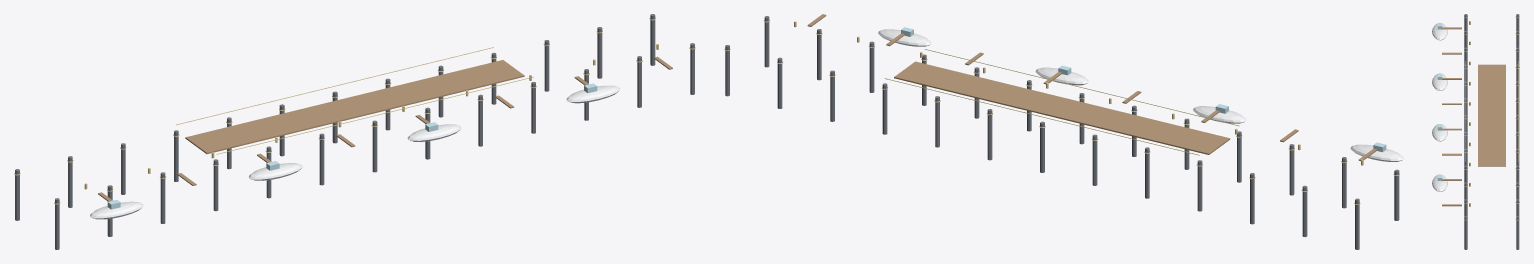
File: reef-harbor.glb
3 views of the same model, side by side, from view 1: azimuth 30°, elevation 25°; view 2: azimuth 150°, elevation 25°; view 3: azimuth 270°, elevation 25° (orthographic). The views are drawn at different scales.
Parts seen in each view (by area): view 1: Cube.222, Cylinder.013, Sphere.071, Torus.299, Cube.233; view 2: Cube.222, Cylinder.013, Sphere.071, Torus.299, Cube.233; view 3: Cube.222, Cylinder.013, Sphere.071, Torus.299, Cube.233.
Boxes of the visible parts, box(x1,y1,x2,y2) form: Cube.222: box(98, 56, 672, 201); Cylinder.013: box(15, 14, 694, 249); Sphere.071: box(90, 85, 619, 219); Torus.299: box(14, 18, 695, 204); Cube.233: box(107, 83, 597, 209); Cube.222: box(807, 14, 1377, 160); Cylinder.013: box(725, 16, 1399, 249); Sphere.071: box(878, 29, 1403, 161); Torus.299: box(724, 20, 1399, 204); Cube.233: box(901, 27, 1386, 152); Cube.222: box(1442, 27, 1505, 206); Cylinder.013: box(1464, 14, 1519, 249); Sphere.071: box(1432, 23, 1447, 191); Torus.299: box(1464, 17, 1519, 220); Cube.233: box(1437, 23, 1442, 180).
Size of the model in its own units: 121 by 10.14 by 22.02.
